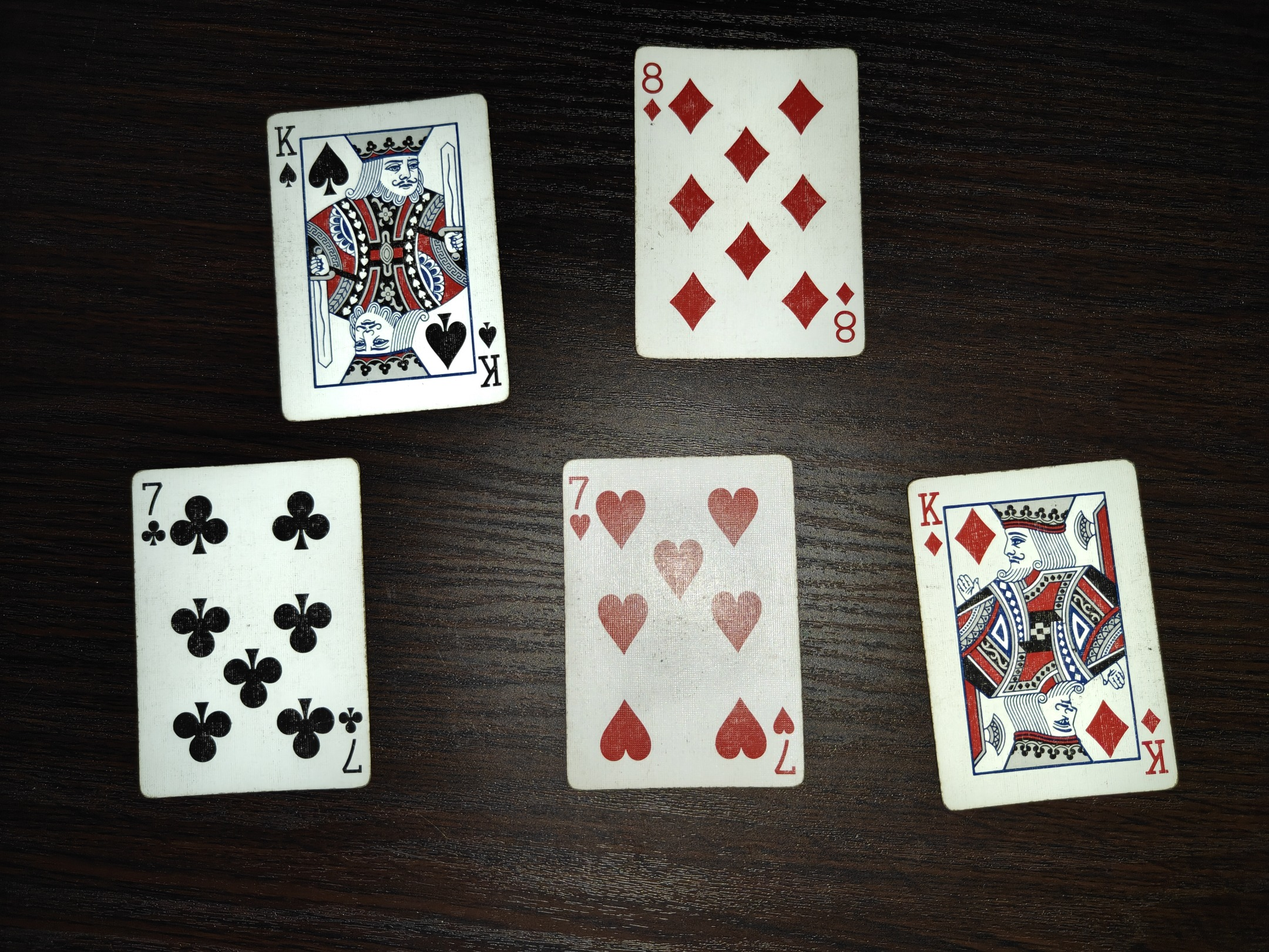7C: (132, 456, 374, 797)
7H: (563, 454, 805, 790)
8D: (633, 43, 868, 361)
KD: (905, 456, 1180, 811)
KS: (266, 92, 512, 423)
